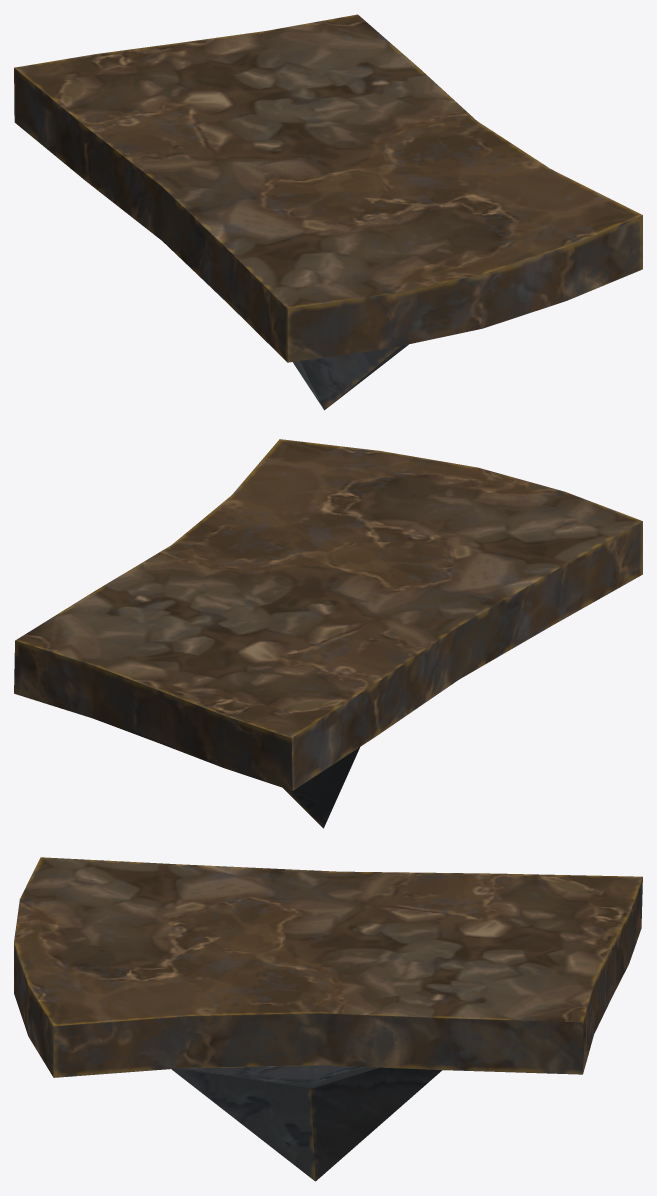
The model's file is genericLoggerIsland1.glb.
3 renders of one model, top to bottom at view 1: azimuth 30°, elevation 25°; view 2: azimuth 150°, elevation 25°; view 3: azimuth 270°, elevation 25°, orthographic. The views are drawn at different scales.
Parts seen in each view (by area): view 1: genericLoggerIsland-col; view 2: genericLoggerIsland-col; view 3: genericLoggerIsland-col.
Boxes of the visible parts, left/top/right/bottom form: genericLoggerIsland-col: left=14, top=14, right=642, bottom=410; genericLoggerIsland-col: left=14, top=439, right=642, bottom=828; genericLoggerIsland-col: left=14, top=857, right=642, bottom=1181.
Size of the model in its own units: 14 by 9.29 by 22.04.
Materials: 1 (1 with a texture image).
